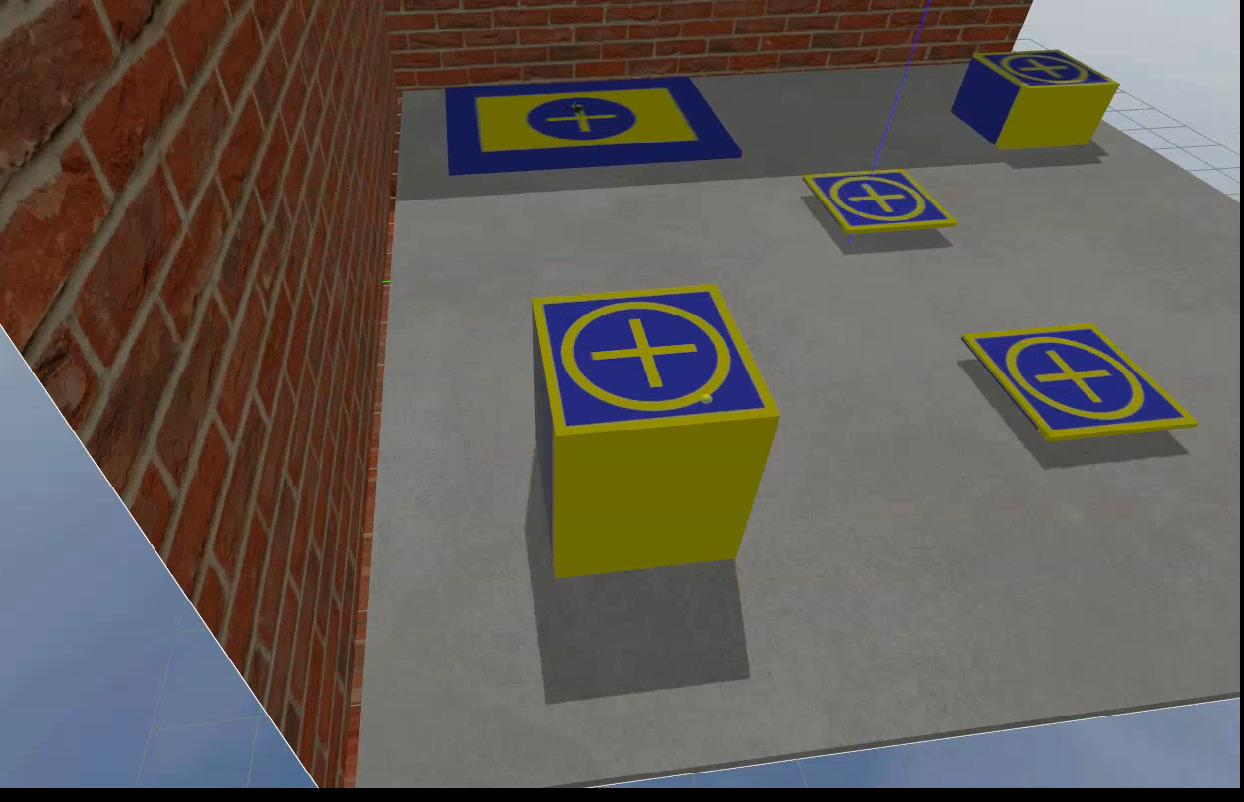large_base: (445, 79, 745, 179)
small_base: (531, 283, 782, 447), (967, 322, 1202, 451), (804, 167, 957, 244), (974, 45, 1120, 98)
